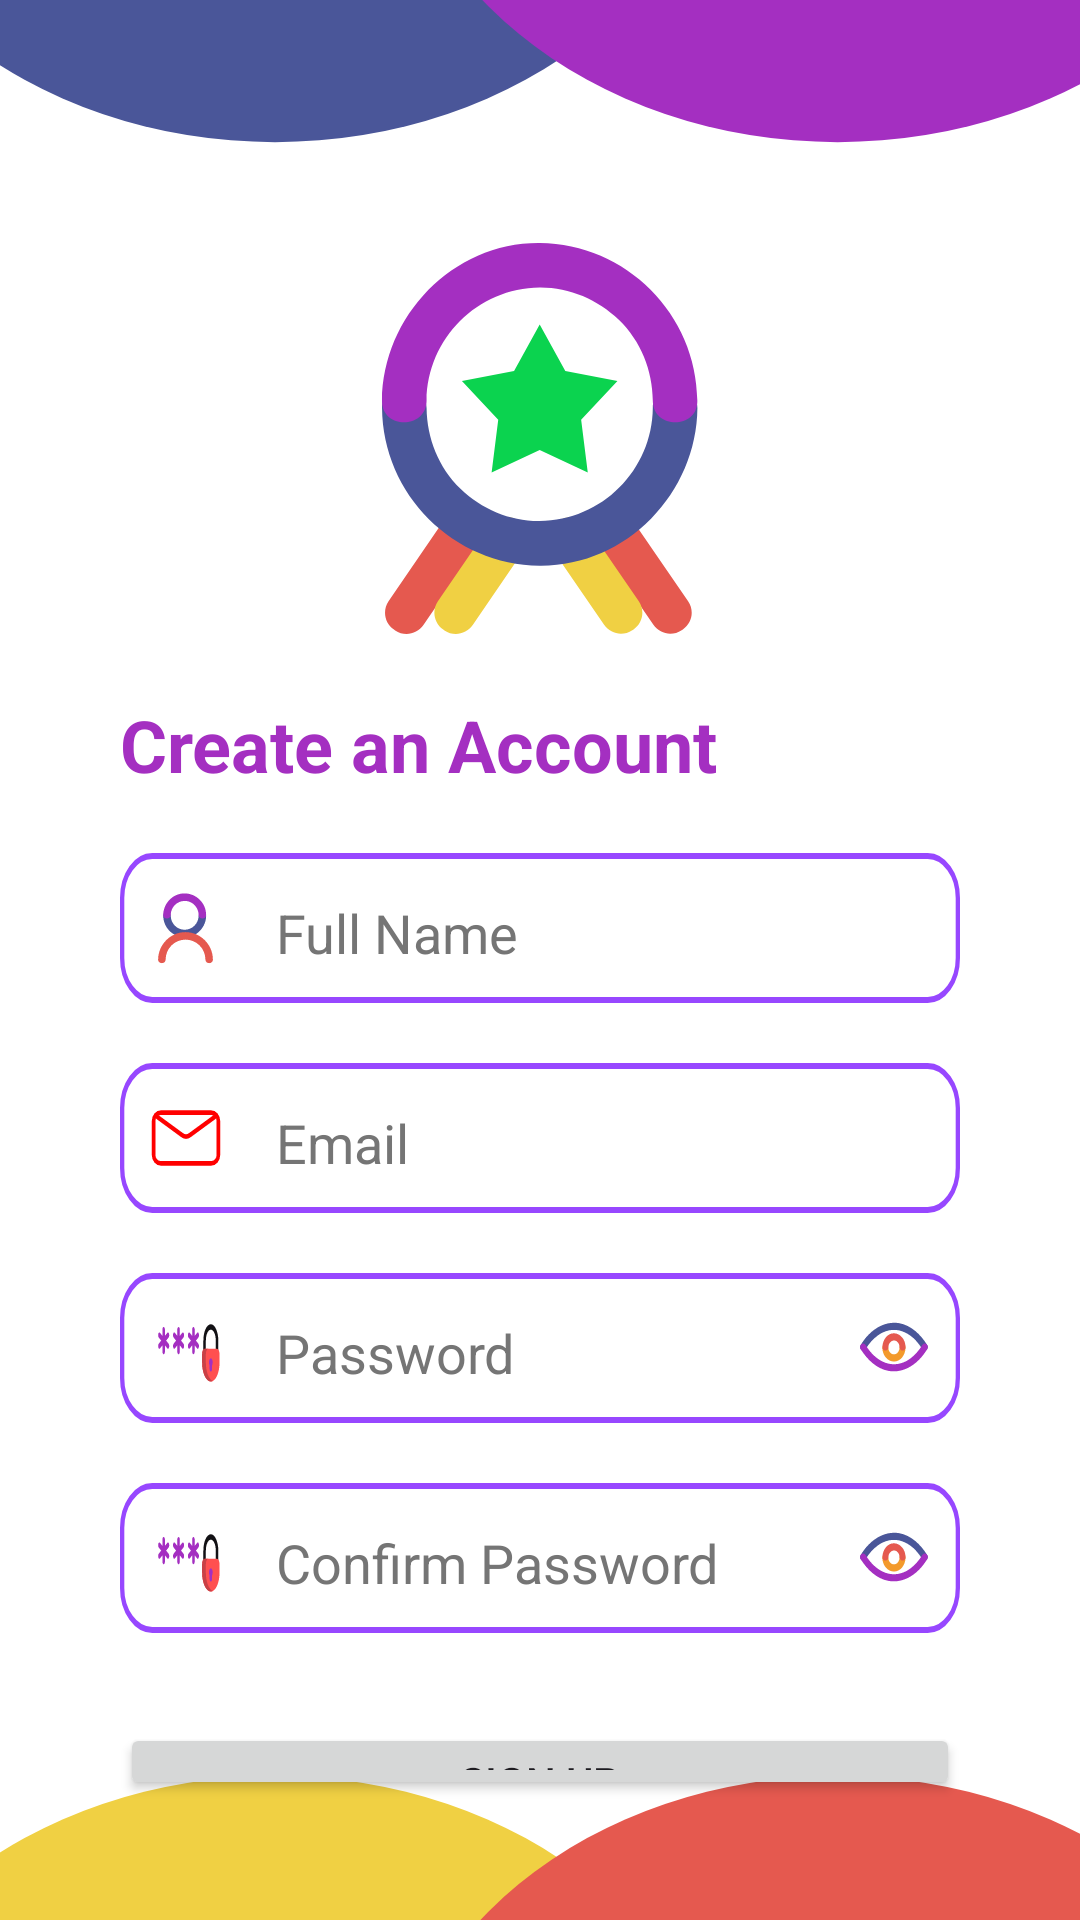

Icons on this 1080*1920 Android screen, each with the point to tap as [x,y]:
man: [185,928]
